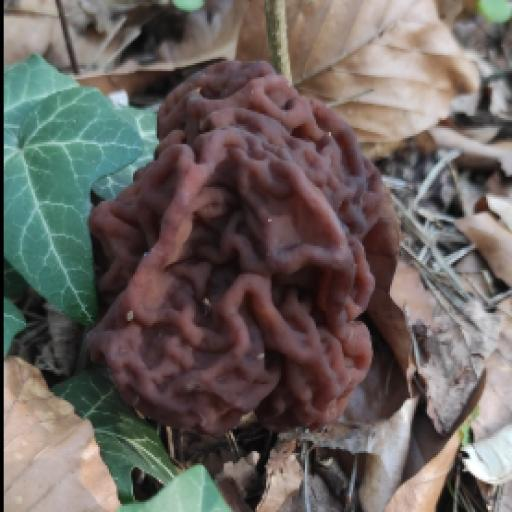mushroom: (71, 45, 400, 453)
